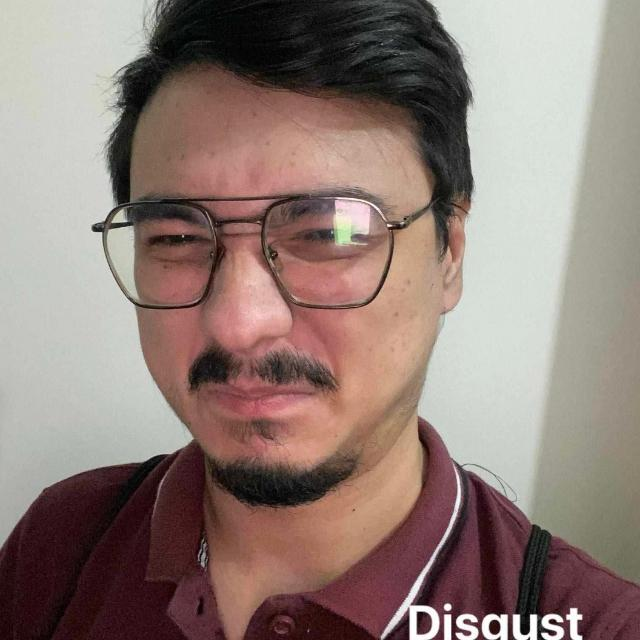Disgust: (40, 62, 512, 537)
